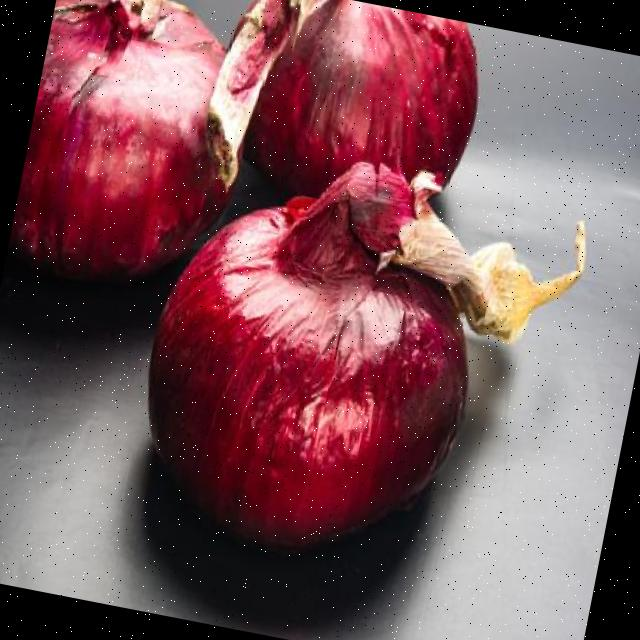Onion: (149, 162, 588, 550), (8, 0, 227, 281), (211, 0, 479, 196)
